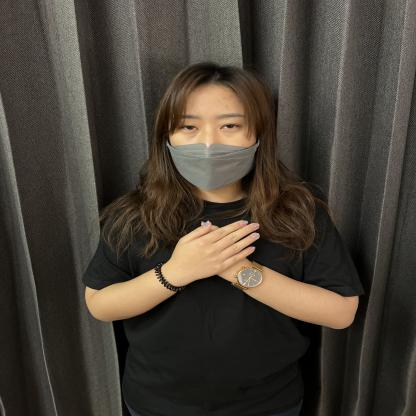Grieve: (93, 184, 380, 344)
